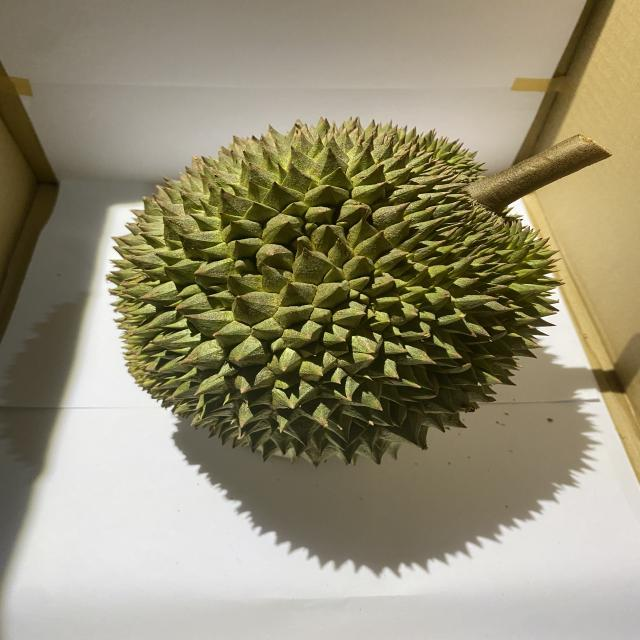immature: (111, 116, 563, 472)
